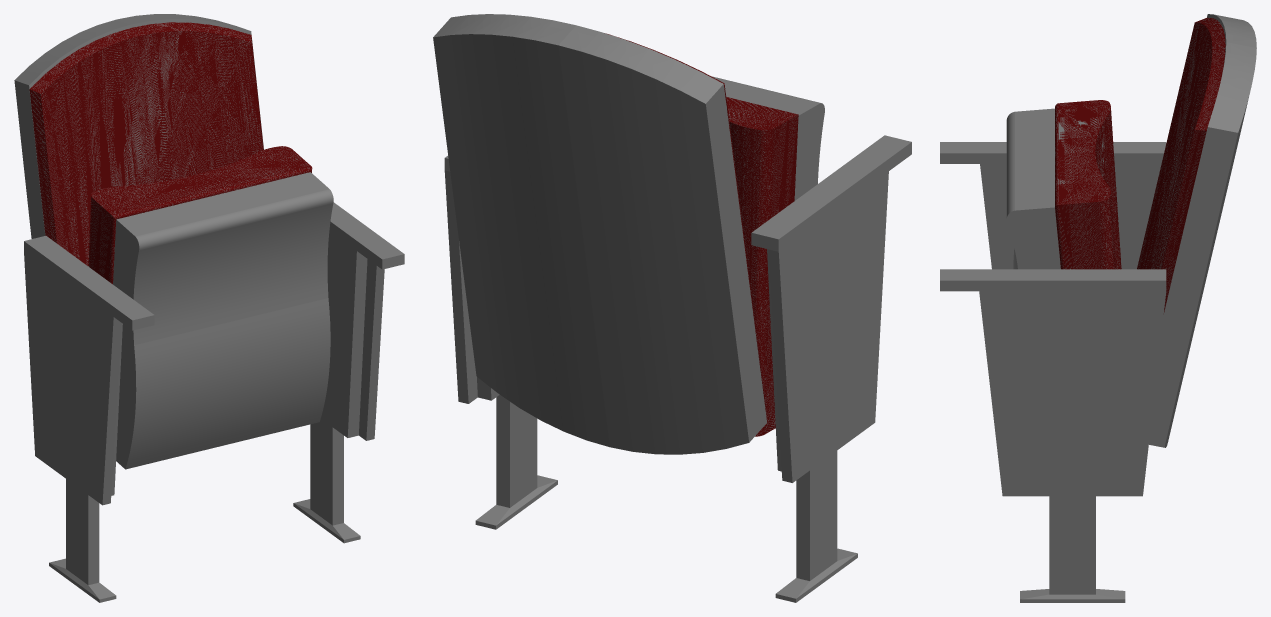
File: silla.dae
3 renders of one model, left to right at view 1: azimuth 30°, elevation 25°; view 2: azimuth 150°, elevation 25°; view 3: azimuth 270°, elevation 25°, orthographic. The views are drawn at different scales.
Visible parts, largest first — view 1: SEAT, SEAT_AND_REST (×2), SIDE_OF_ARM1, RIGHT_CHAIR_ARM, REST, LEFT_CHAIR_ARM, ARM_1, SIDE_OF_ARM_2, ARM_2; view 2: REST, SIDE_OF_ARM1, SEAT_AND_REST (×2), LEFT_CHAIR_ARM, ARM_1, RIGHT_CHAIR_ARM, SEAT, SIDE_OF_ARM_2; view 3: SIDE_OF_ARM_2, SEAT_AND_REST (×2), REST, SEAT, RIGHT_CHAIR_ARM, ARM_2, LEFT_CHAIR_ARM, SIDE_OF_ARM1, ARM_1.
Boxes of the visible parts, x1,y1,x2,y2 form: SEAT: [113, 172, 333, 469]; SEAT_AND_REST (×2): [29, 22, 312, 284]; SIDE_OF_ARM1: [24, 251, 121, 505]; RIGHT_CHAIR_ARM: [293, 231, 367, 543]; REST: [14, 14, 263, 238]; LEFT_CHAIR_ARM: [49, 323, 122, 602]; ARM_1: [24, 235, 154, 330]; SIDE_OF_ARM_2: [359, 259, 384, 440]; ARM_2: [329, 202, 404, 269]; REST: [433, 14, 766, 454]; SIDE_OF_ARM1: [768, 171, 888, 482]; SEAT_AND_REST (×2): [606, 33, 798, 436]; LEFT_CHAIR_ARM: [767, 249, 857, 602]; ARM_1: [751, 135, 911, 251]; RIGHT_CHAIR_ARM: [475, 377, 557, 529]; SEAT: [712, 76, 824, 200]; SIDE_OF_ARM_2: [444, 170, 477, 403]; SIDE_OF_ARM_2: [979, 291, 1166, 496]; SEAT_AND_REST (×2): [1055, 17, 1225, 313]; REST: [1149, 14, 1256, 447]; SEAT: [1006, 108, 1060, 269]; RIGHT_CHAIR_ARM: [1020, 496, 1125, 602]; ARM_2: [940, 269, 1166, 291]; LEFT_CHAIR_ARM: [998, 164, 1146, 269]; SIDE_OF_ARM1: [980, 164, 1161, 269]; ARM_1: [940, 142, 1166, 163].
Size of the model in its own units: 20.88 by 20.19 by 34.77.
